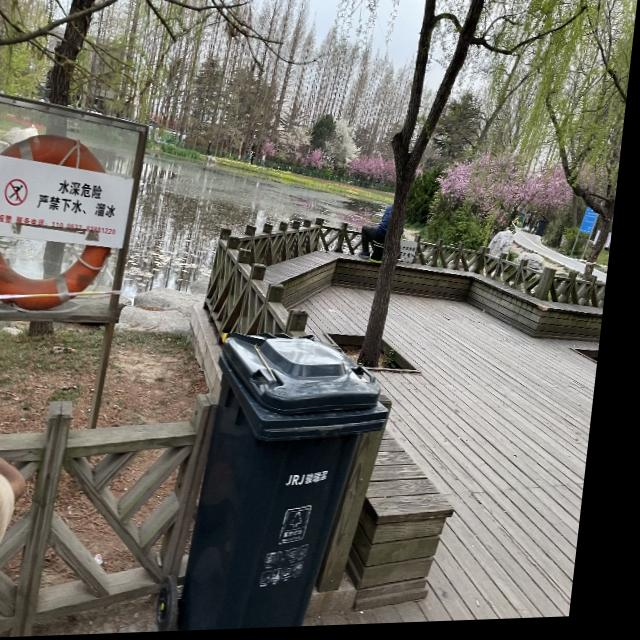garbage_bin: (191, 328, 405, 632)
